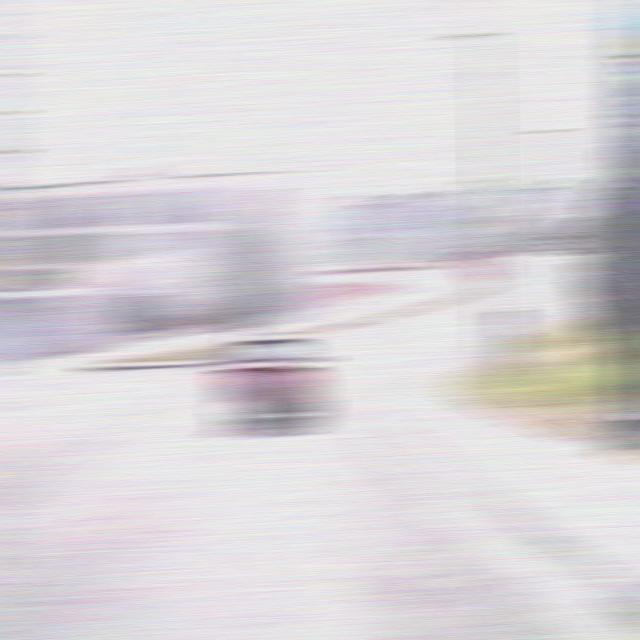stop: (461, 242, 508, 286)
